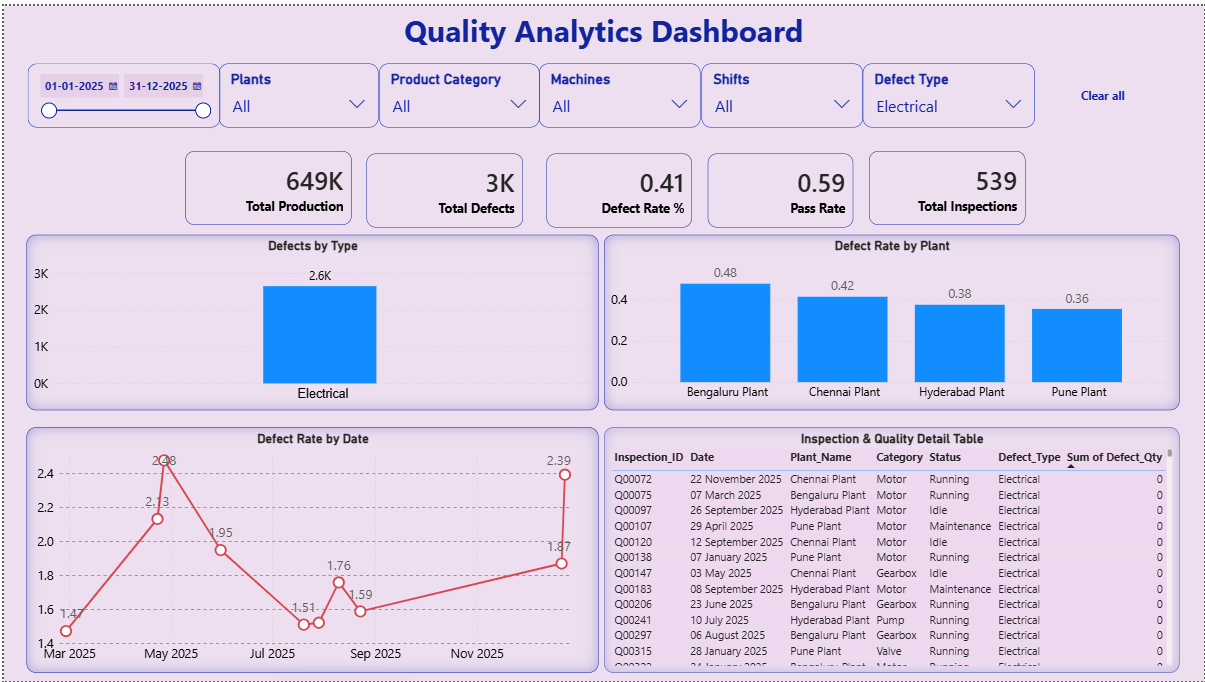

What the dashboard file says about the page in this screenshot:
{"tool":"powerbi","page":{"name":"Quality Analysis","canvas":[1920,1080],"ordinal":2},"visuals":[{"type":"slicer","fields":{"Values":["Date.Date"]},"box":[37.7,91.5,307.7,102.6],"z":0},{"type":"textbox","box":[0,0,1919.6,91.6],"z":1000},{"type":"slicer","fields":{"Values":["Plants.Plant_Name"]},"box":[344.6,91.5,307.7,102.6],"z":2000},{"type":"slicer","fields":{"Values":["Products.Category"]},"box":[654.2,91.5,307.7,102.6],"z":3000},{"type":"slicer","fields":{"Values":["Machines.Machine_Name"]},"box":[961.4,91.4,307.7,102.6],"z":4000},{"type":"slicer","fields":{"Values":["Employees.Shift"]},"box":[1269.4,91.4,307.7,102.6],"z":5000},{"type":"slicer","fields":{"Values":["Quality.Defect_Type"]},"box":[1577.5,91.4,307.7,102.6],"z":6000},{"type":"cardVisual","fields":{"Data":["_Measures.Total Production"]},"box":[277.3,220.8,290.8,142.7],"z":7000},{"type":"cardVisual","fields":{"Data":["_Measures.Total Defects"]},"box":[568,223.4,274.6,142.7],"z":8000},{"type":"cardVisual","fields":{"Data":["_Measures.Defect Rate %"]},"box":[856.1,223.4,257.8,142],"z":9000},{"type":"cardVisual","fields":{"Data":["_Measures.Pass Rate"]},"box":[1114.5,223.4,257.8,142],"z":10000},{"type":"cardVisual","fields":{"Data":["_Measures.Total Inspections"]},"box":[1373,220.8,274.6,142.7],"z":11000},{"type":"columnChart","title":"Defects by Type","fields":{"Category":["Quality.Defect_Type"],"Y":["_Measures.Total Defects"]},"box":[36.7,366.8,915.3,280.6],"z":12000},{"type":"lineChart","title":"Defect Rate by Date","fields":{"Category":["Date.Date"],"Y":["_Measures.Defect Rate %"]},"box":[36.7,673.2,915.3,392.5],"z":13000},{"type":"clusteredColumnChart","title":"Defect Rate by Plant","fields":{"Category":["Plants.Plant_Name"],"Y":["_Measures.Defect Rate %"]},"box":[959.3,366.8,920.8,280.6],"z":14000},{"type":"tableEx","title":"Inspection & Quality Detail Table","fields":{"Values":["Quality.Inspection_ID","Production.Date","Plants.Plant_Name","Products.Category","Machines.Status","Quality.Defect_Type","Sum(Quality.Defect_Qty)"]},"box":[959.3,673.2,920.8,392.5],"z":15000}]}

Visuals, with their boxes in screenshot pixels (x1, y1, x2, y2), scaled from the page's 1920x1080 canvas onto the 1205x682 screenshot:
slicer - Date.Date: <region>24, 58, 217, 123</region>
textbox: <region>0, 0, 1204, 58</region>
slicer - Plants.Plant_Name: <region>216, 58, 409, 123</region>
slicer - Products.Category: <region>411, 58, 604, 123</region>
slicer - Machines.Machine_Name: <region>603, 58, 796, 123</region>
slicer - Employees.Shift: <region>797, 58, 990, 123</region>
slicer - Quality.Defect_Type: <region>990, 58, 1183, 123</region>
cardVisual - _Measures.Total Production: <region>174, 139, 357, 230</region>
cardVisual - _Measures.Total Defects: <region>356, 141, 529, 231</region>
cardVisual - _Measures.Defect Rate %: <region>537, 141, 699, 231</region>
cardVisual - _Measures.Pass Rate: <region>699, 141, 861, 231</region>
cardVisual - _Measures.Total Inspections: <region>862, 139, 1034, 230</region>
"Defects by Type" columnChart: <region>23, 232, 597, 409</region>
"Defect Rate by Date" lineChart: <region>23, 425, 597, 673</region>
"Defect Rate by Plant" clusteredColumnChart: <region>602, 232, 1180, 409</region>
"Inspection & Quality Detail Table" tableEx: <region>602, 425, 1180, 673</region>
